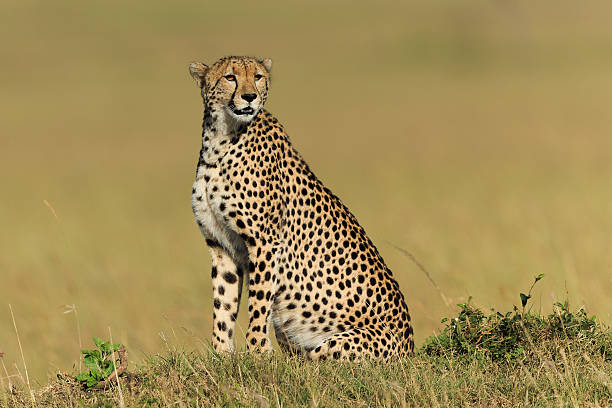cheetah: (187, 48, 284, 122)
